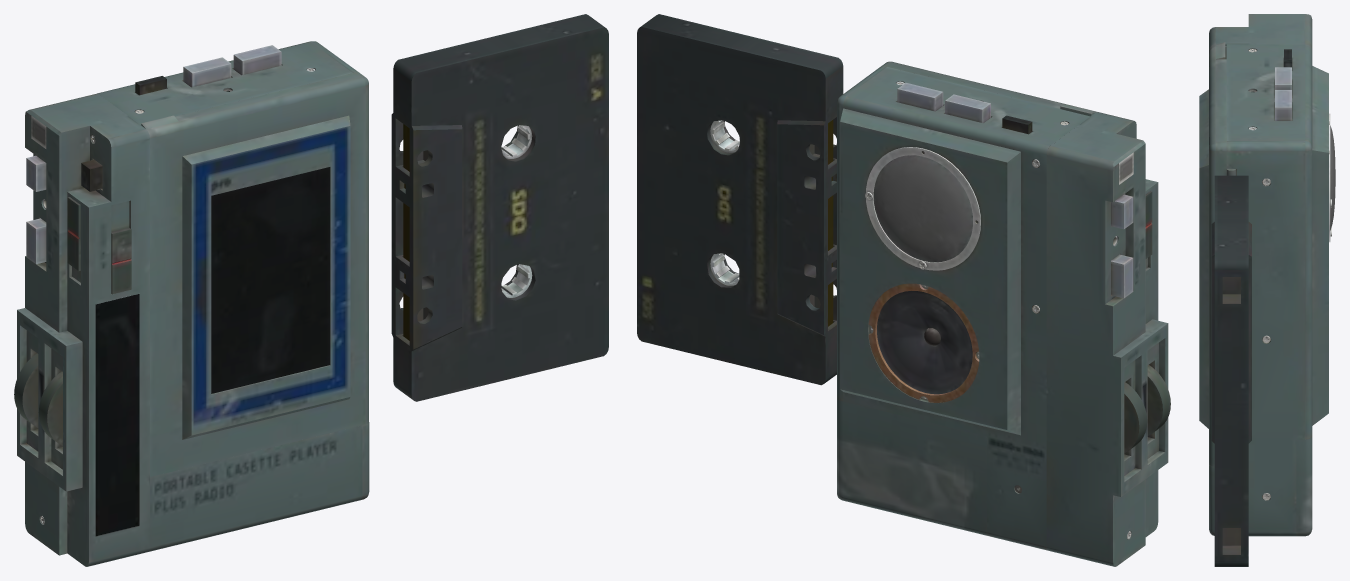
The model's file is portable_cassette_player.glb.
3 views of the same model, side by side, from view 1: azimuth 30°, elevation 25°; view 2: azimuth 150°, elevation 25°; view 3: azimuth 270°, elevation 25° (orthographic). The views are drawn at different scales.
Parts seen in each view (by area): view 1: Cylinder.015, Plane.097, Cube.017; view 2: Cylinder.015, Cube.017, Plane.097; view 3: Cylinder.015, Cube.017, Plane.097.
Part boxes in pixels (x1,y1,x2,y2): Cylinder.015: (14,41,369,566); Plane.097: (141,72,368,476); Cube.017: (391,14,608,401); Cylinder.015: (837,66,1170,566); Cube.017: (637,14,843,385); Plane.097: (881,61,1096,116); Cylinder.015: (1209,14,1335,536); Cube.017: (1211,175,1251,566); Plane.097: (1199,42,1235,466).
Size of the model in its own units: 0.1723 by 0.1303 by 0.0397.
Materials: 2 (2 with a texture image).
